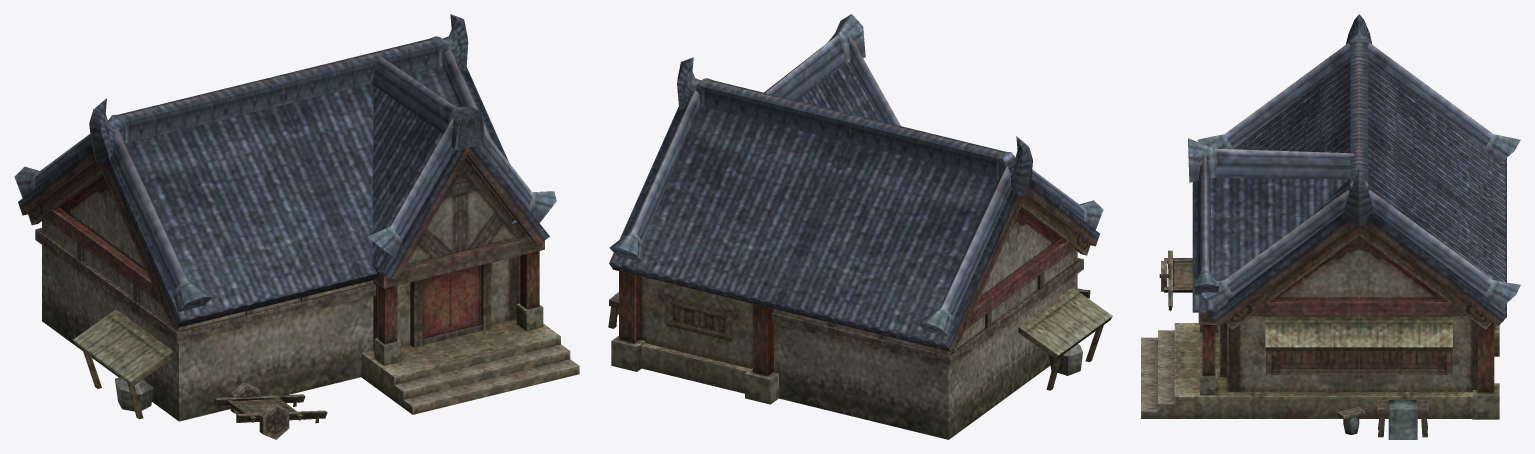
File: house004.FBX
The picture shows the model from 3 angles, left to right: view 1: azimuth 30°, elevation 25°; view 2: azimuth 150°, elevation 25°; view 3: azimuth 270°, elevation 25°; orthographic projection. The views are drawn at different scales.
Visible parts, largest first — view 1: house004; view 2: house004; view 3: house004.
Boxes of the visible parts, <box> form: house004: <box>14,14,579,439</box>; house004: <box>608,14,1112,439</box>; house004: <box>1141,14,1520,439</box>.
Bounding box in the file's own units: 258 × 154 × 211.
